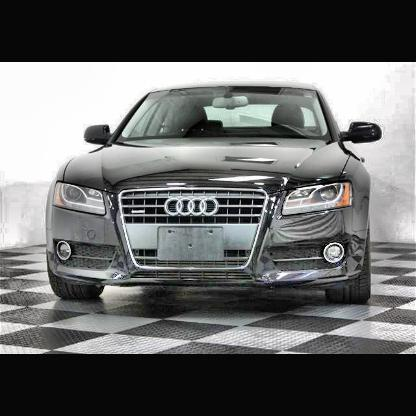Audi A5 Coupe 2012: (47, 85, 382, 306)
